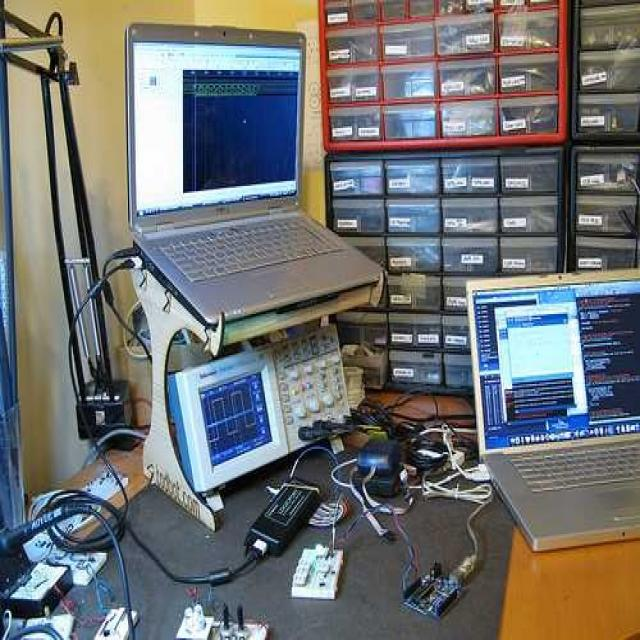laptop: (121, 24, 382, 328), (472, 277, 640, 548)
